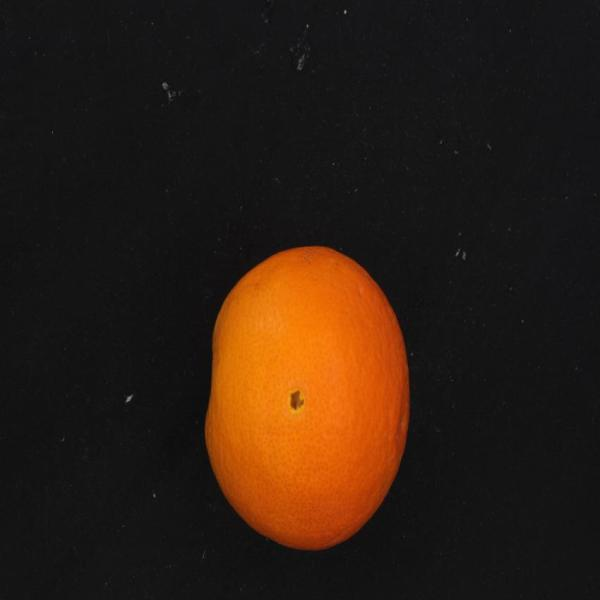Moho verde: (192, 234, 418, 556)
